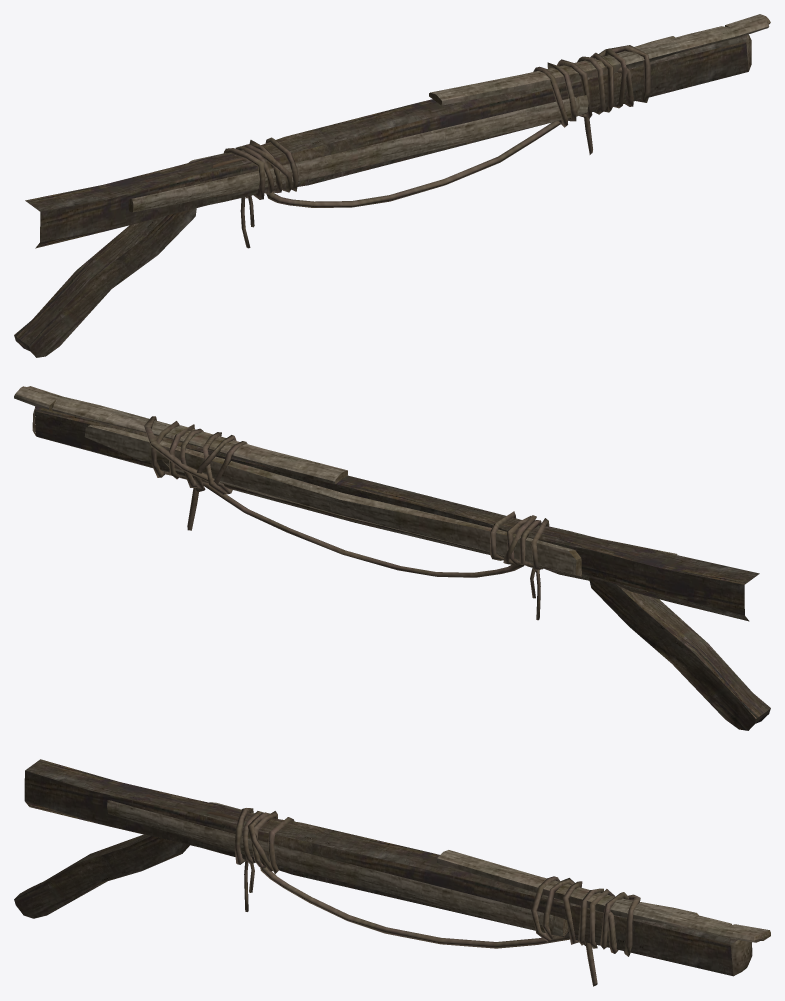
The model's file is ING_NAV_Beam_4m_01_LOD0-transformed.glb.
3 renders of one model, top to bottom at view 1: azimuth 30°, elevation 25°; view 2: azimuth 150°, elevation 25°; view 3: azimuth 330°, elevation 25°, orthographic.
Visible parts, largest first — view 1: default; view 2: default; view 3: default.
Part boxes in pixels (x1,y1,x2,y2): default: [14, 14, 770, 357]; default: [14, 386, 770, 730]; default: [14, 759, 770, 986].
Bounding box in the file's own units: 4.41 × 0.9044 × 0.32.
3 materials, 3 textured.
